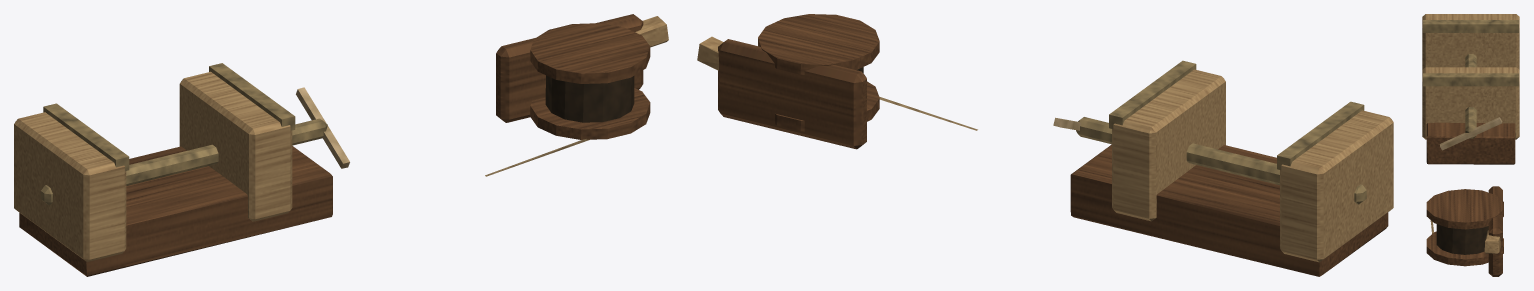
File: WestViseAndInk_LOD1.fbx
The picture shows the model from 3 angles, left to right: view 1: azimuth 30°, elevation 25°; view 2: azimuth 150°, elevation 25°; view 3: azimuth 270°, elevation 25°; orthographic projection. The views are drawn at different scales.
Parts seen in each view (by area): view 1: WestViseAndInk.001; view 2: WestViseAndInk.001; view 3: WestViseAndInk.001.
Boxes of the visible parts, left/top/right/bottom form: WestViseAndInk.001: left=14, top=14, right=668, bottom=276; WestViseAndInk.001: left=697, top=14, right=1393, bottom=276; WestViseAndInk.001: left=1422, top=14, right=1519, bottom=276.
Bounding box in the file's own units: 1.39 × 0.236 × 0.278.
1 material, 1 textured.
